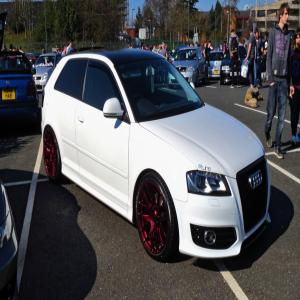Vehicle-registration-plate: (3, 86, 17, 101), (231, 73, 240, 77), (36, 81, 41, 85), (216, 71, 219, 74)
